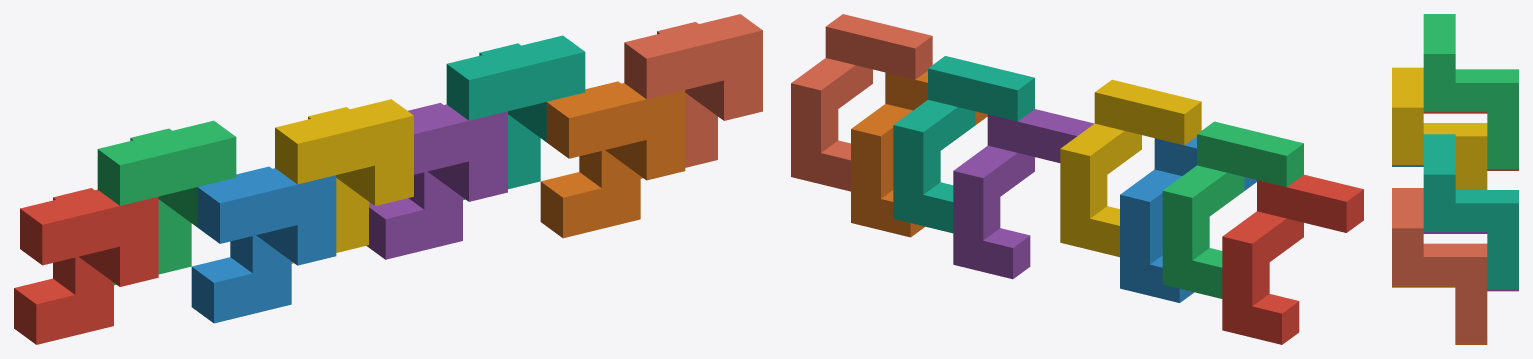
Rendered from tiling.obj.
3 views of the same model, side by side, from view 1: azimuth 30°, elevation 25°; view 2: azimuth 150°, elevation 25°; view 3: azimuth 270°, elevation 25° (orthographic). The views are drawn at different scales.
Parts seen in each view (by area): view 1: copy_1_domain_2, copy_1_domain_6, copy_1_domain_1, copy_1_domain_5, copy_1_domain_8, copy_1_domain_4, copy_1_domain_3, copy_1_domain_7; view 2: copy_1_domain_1, copy_1_domain_3, copy_1_domain_7, copy_1_domain_4, copy_1_domain_8, copy_1_domain_5, copy_1_domain_6, copy_1_domain_2; view 3: copy_1_domain_8, copy_1_domain_3, copy_1_domain_7, copy_1_domain_4, copy_1_domain_1, copy_1_domain_6, copy_1_domain_5.
Boxes of the visible parts, x1,y1,x2,y2 form: copy_1_domain_2: [191, 166, 336, 323]; copy_1_domain_6: [540, 81, 685, 238]; copy_1_domain_1: [14, 188, 158, 344]; copy_1_domain_5: [366, 103, 507, 259]; copy_1_domain_8: [624, 14, 762, 178]; copy_1_domain_4: [275, 99, 413, 263]; copy_1_domain_3: [97, 120, 236, 285]; copy_1_domain_7: [446, 35, 585, 200]; copy_1_domain_1: [1222, 174, 1363, 344]; copy_1_domain_3: [1162, 121, 1303, 298]; copy_1_domain_7: [893, 56, 1034, 233]; copy_1_domain_4: [1060, 79, 1201, 257]; copy_1_domain_8: [791, 14, 932, 191]; copy_1_domain_5: [953, 109, 1094, 279]; copy_1_domain_6: [851, 71, 987, 237]; copy_1_domain_2: [1120, 136, 1256, 302]; copy_1_domain_8: [1392, 188, 1487, 342]; copy_1_domain_3: [1423, 14, 1518, 168]; copy_1_domain_7: [1423, 134, 1518, 289]; copy_1_domain_4: [1392, 67, 1487, 189]; copy_1_domain_1: [1423, 111, 1518, 170]; copy_1_domain_6: [1392, 285, 1487, 344]; copy_1_domain_5: [1423, 232, 1518, 291].
Bounding box in the file's own units: 18 × 5 × 4.
